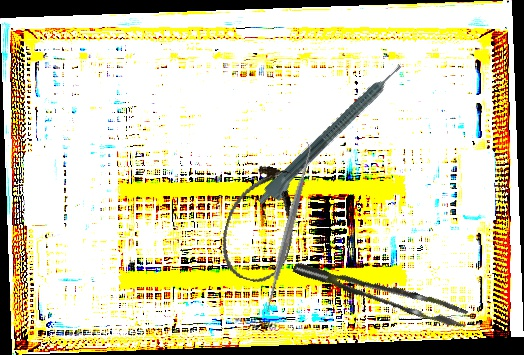Cannula: (212, 159, 311, 289)
Handpiece: (254, 61, 412, 213)
Spatula Surgical: (257, 141, 321, 314)
Tissue Forceps: (292, 239, 471, 345)
